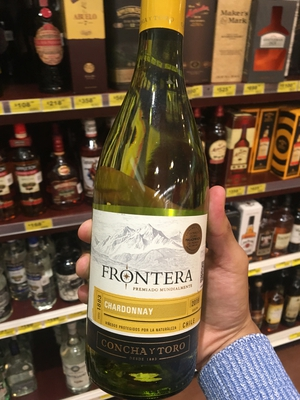frontera chardonnay: (85, 12, 235, 400)
